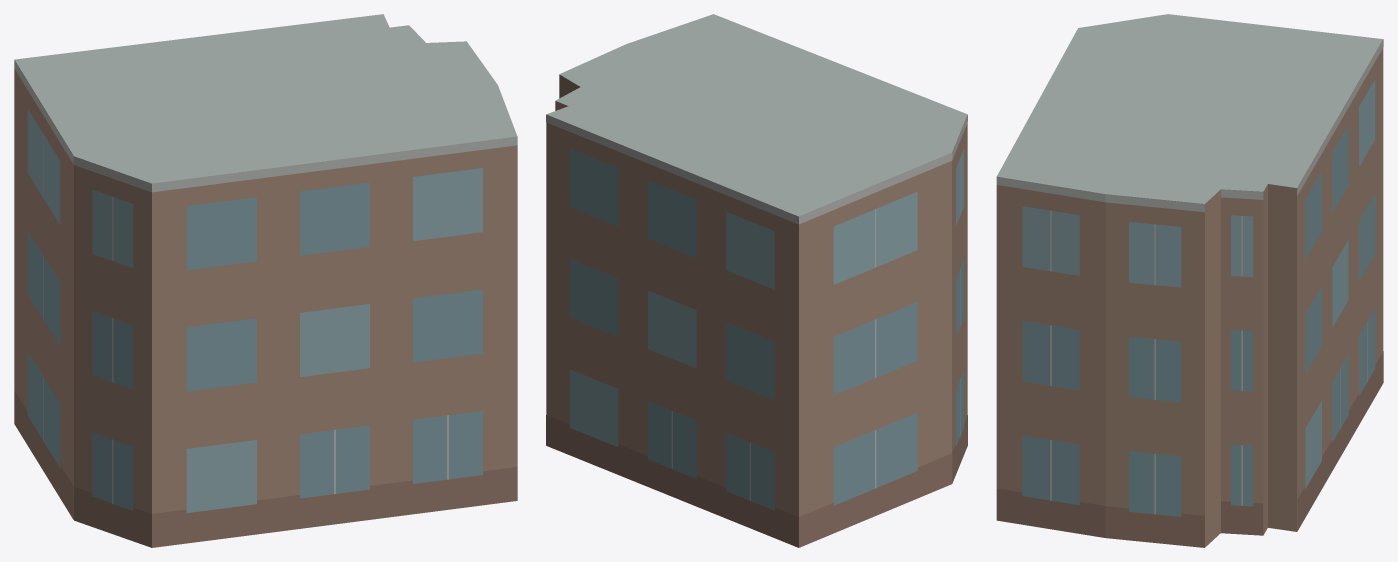
The model's file is survey-upis-32910065.glb.
3 views of the same model, side by side, from view 1: azimuth 30°, elevation 25°; view 2: azimuth 150°, elevation 25°; view 3: azimuth 270°, elevation 25° (orthographic). The views are drawn at different scales.
Visible parts, largest first — view 1: survey-upis-32910065.tmp; view 2: survey-upis-32910065.tmp; view 3: survey-upis-32910065.tmp.
Part boxes in pixels (bbox=[...]): survey-upis-32910065.tmp: bbox=[14, 14, 517, 547]; survey-upis-32910065.tmp: bbox=[546, 14, 967, 547]; survey-upis-32910065.tmp: bbox=[996, 14, 1383, 547].
Size of the model in its own units: 12.1 by 10.2 by 10.41.
